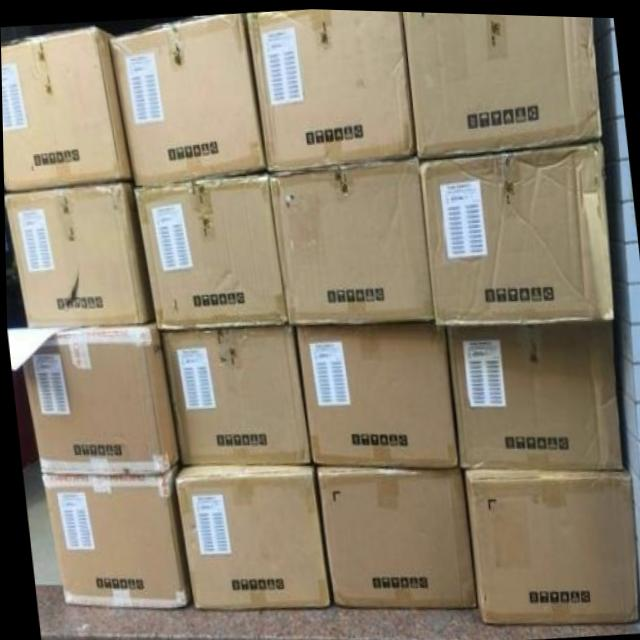box: (418, 139, 612, 318), (400, 9, 601, 156), (245, 7, 414, 172), (269, 155, 433, 321), (109, 12, 266, 185), (462, 465, 637, 617), (446, 314, 619, 465), (19, 324, 177, 474), (133, 171, 286, 324), (294, 319, 455, 462), (3, 180, 154, 325), (174, 463, 327, 606), (316, 464, 472, 604), (1, 28, 135, 190), (42, 462, 190, 607), (161, 321, 310, 464)
